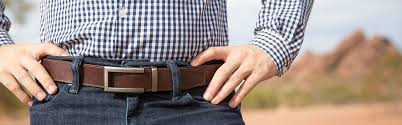F_belt: (29, 54, 239, 99)
